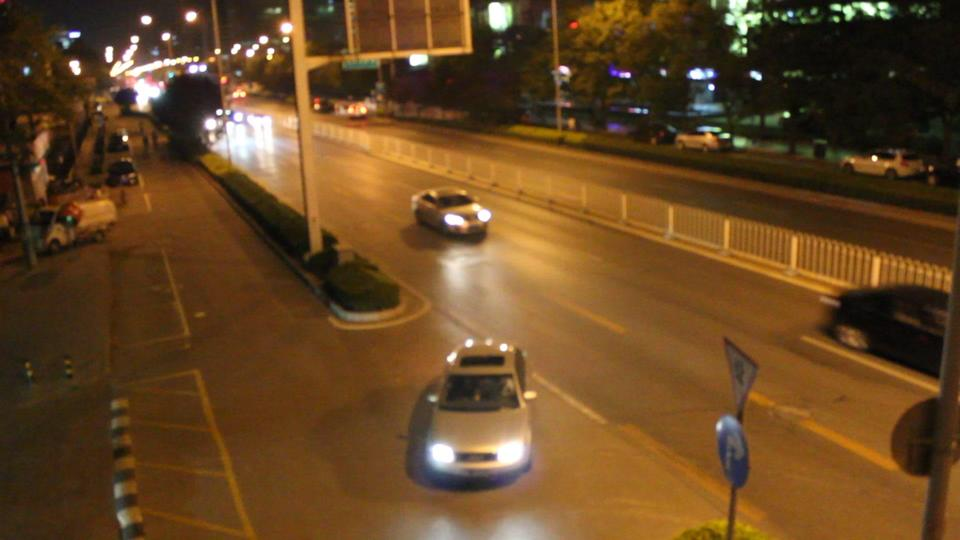Car: (424, 336, 529, 483), (829, 279, 948, 373), (412, 185, 488, 235), (248, 113, 272, 128), (221, 108, 243, 124), (346, 102, 368, 116)
